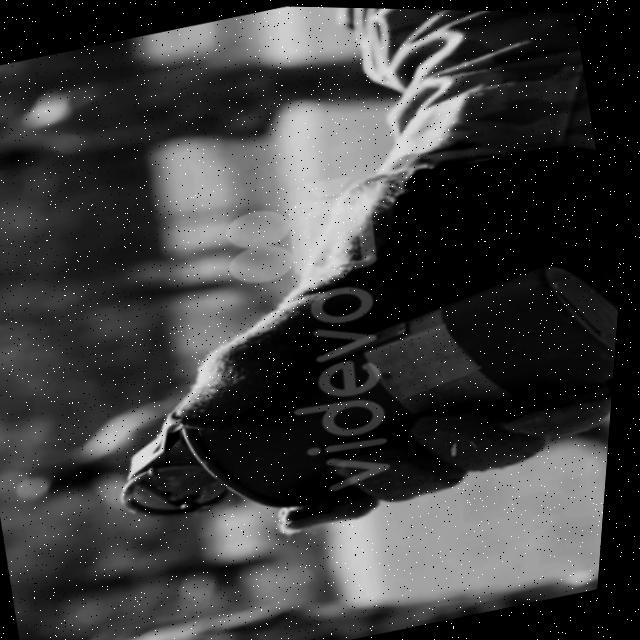grenade: (82, 221, 627, 575)
